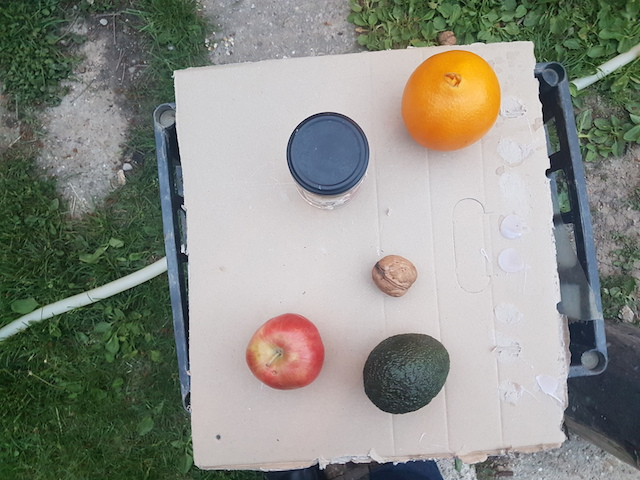apple: (246, 310, 324, 390)
avocado: (360, 331, 446, 415)
nut: (368, 252, 421, 301)
orange: (402, 48, 499, 155)
recipient: (285, 109, 371, 198)
